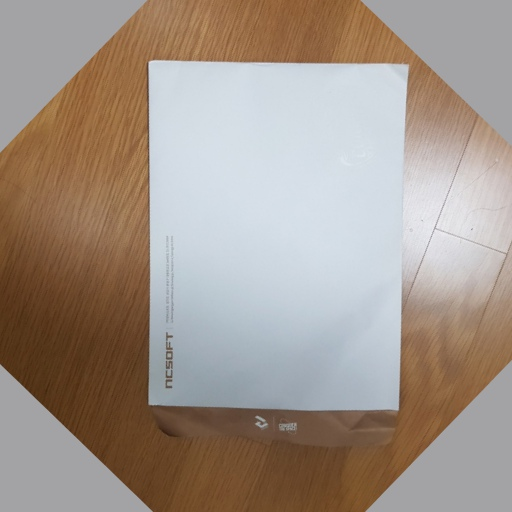Paper_2: (134, 50, 422, 462)
